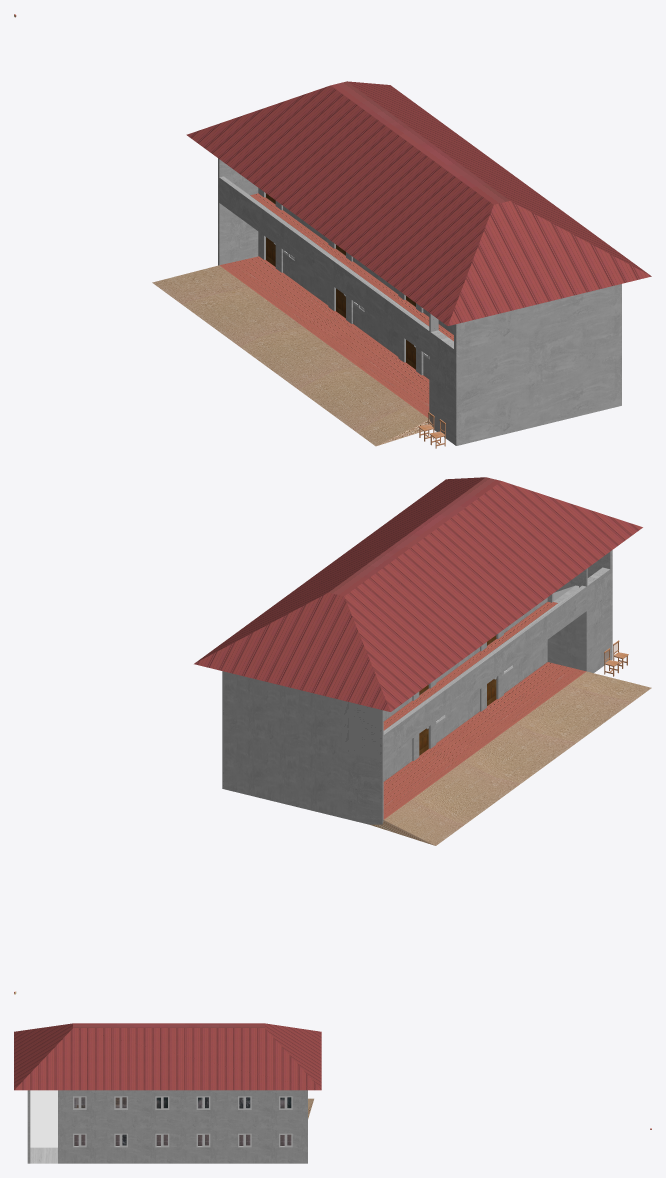
The model's file is BetterDormBuildingw_furniture.glb.
3 renders of one model, top to bottom at view 1: azimuth 30°, elevation 25°; view 2: azimuth 150°, elevation 25°; view 3: azimuth 270°, elevation 25°, orthographic. The views are drawn at different scales.
Visible parts, largest first — view 1: Roof, Stairs, First Floor, Railings, Walls.003, Second Floor.001, Walls.004; view 2: Roof, First Floor, Walls.003, Walls.004, Railings, Stairs, Second Floor.001; view 3: Roof, Walls.003, Walls.004, Cube, WindowPane2.012, Stairs.
Boxes of the visible parts, x1,y1,x2,y2 form: Roof: (186, 81, 651, 325); Stairs: (430, 284, 621, 445); First Floor: (152, 256, 432, 446); Railings: (219, 176, 429, 355); Walls.003: (218, 202, 430, 420); Second Floor.001: (250, 193, 453, 341); Walls.004: (218, 158, 453, 357); Roof: (194, 477, 642, 711); First Floor: (370, 662, 651, 845); Walls.003: (222, 610, 587, 824); Walls.004: (222, 568, 587, 760); Railings: (383, 585, 586, 759); Stairs: (553, 550, 612, 673); Second Floor.001: (383, 601, 557, 730); Roof: (14, 1023, 321, 1090); Walls.003: (58, 1122, 307, 1163); Walls.004: (58, 1090, 307, 1122); Cube: (30, 1090, 57, 1147); WindowPane2.012: (155, 1096, 292, 1109); Stairs: (27, 1090, 57, 1163).
Size of the model in its own units: 12.1 by 9.19 by 46.45.
Materials: 55 (45 with a texture image).
